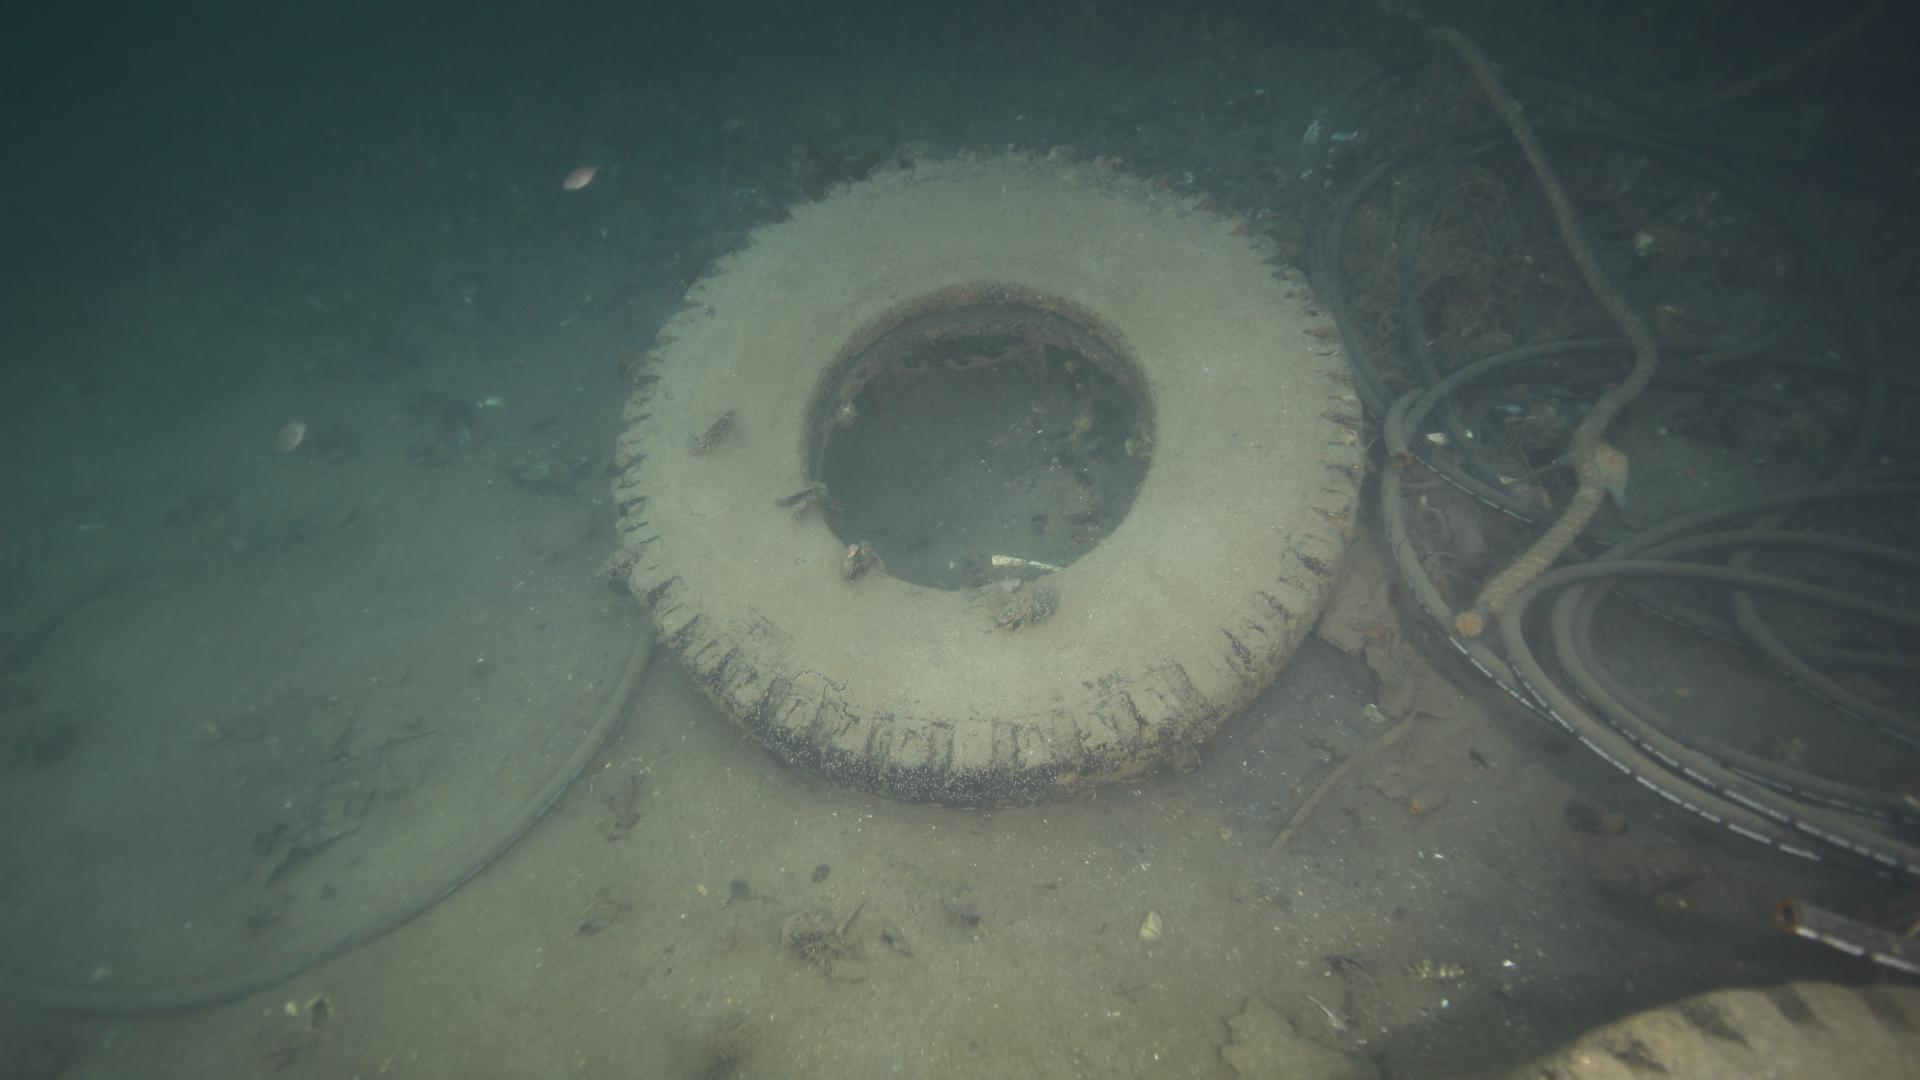rope: (1431, 22, 1659, 609)
tire: (611, 142, 1367, 808)
